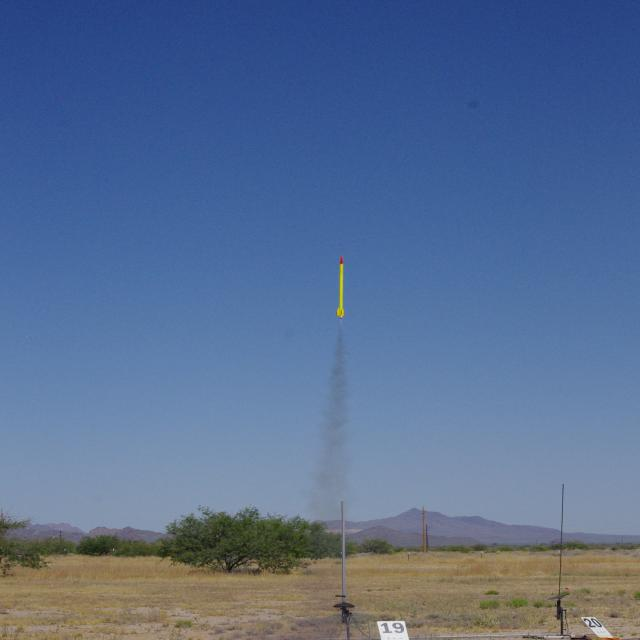Rocket: (336, 254, 346, 320)
